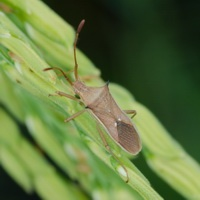insect: (43, 20, 140, 154)
